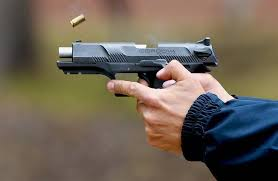Arma Real: (56, 36, 221, 97)
